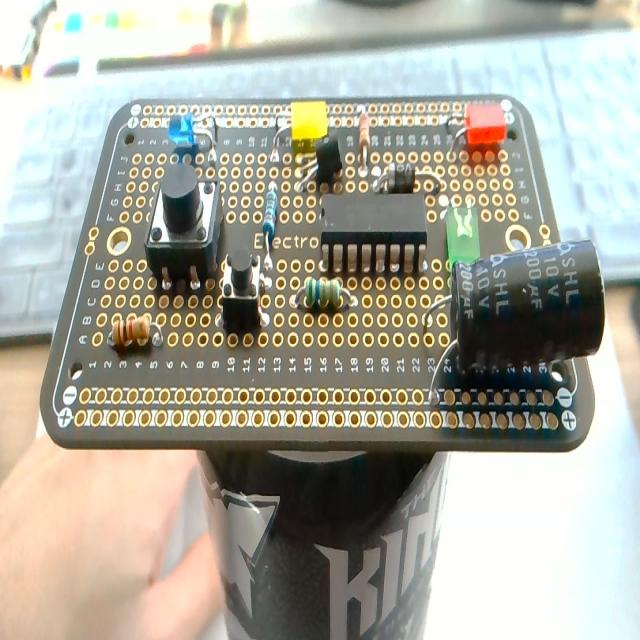Electrolytic capacitor: (426, 232, 603, 405)
IC: (320, 188, 428, 274)
diode: (370, 160, 432, 196)
led: (443, 102, 505, 156), (446, 204, 482, 275), (168, 110, 214, 163), (291, 99, 327, 147)
resistor: (292, 280, 356, 312), (107, 314, 161, 351), (261, 178, 277, 269), (358, 111, 370, 165)
switch: (144, 165, 222, 287), (218, 248, 264, 330)
transistor: (292, 130, 341, 192)
